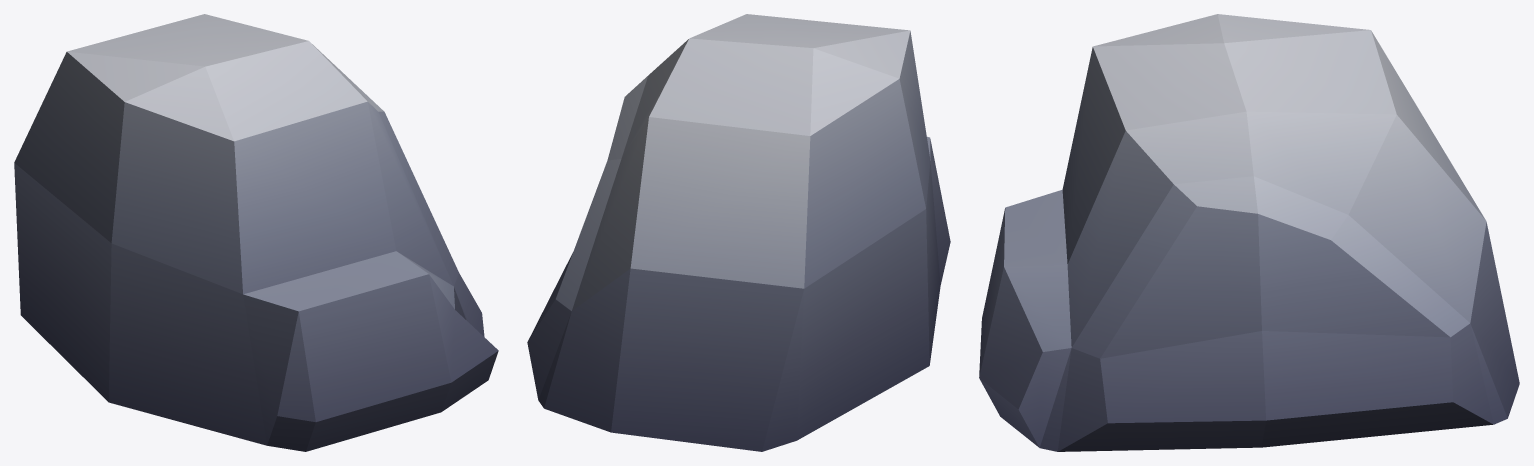
Rendered from Rock_5.fbx.
3 views of the same model, side by side, from view 1: azimuth 30°, elevation 25°; view 2: azimuth 150°, elevation 25°; view 3: azimuth 270°, elevation 25° (orthographic). The views are drawn at different scales.
Parts seen in each view (by area): view 1: Rock_5; view 2: Rock_5; view 3: Rock_5.
Boxes of the visible parts, left/top/right/bottom form: Rock_5: left=14, top=14, right=498, bottom=451; Rock_5: left=527, top=14, right=950, bottom=451; Rock_5: left=979, top=14, right=1519, bottom=451.
Bounding box in the file's own units: 0.6632 × 0.6528 × 0.9148.
